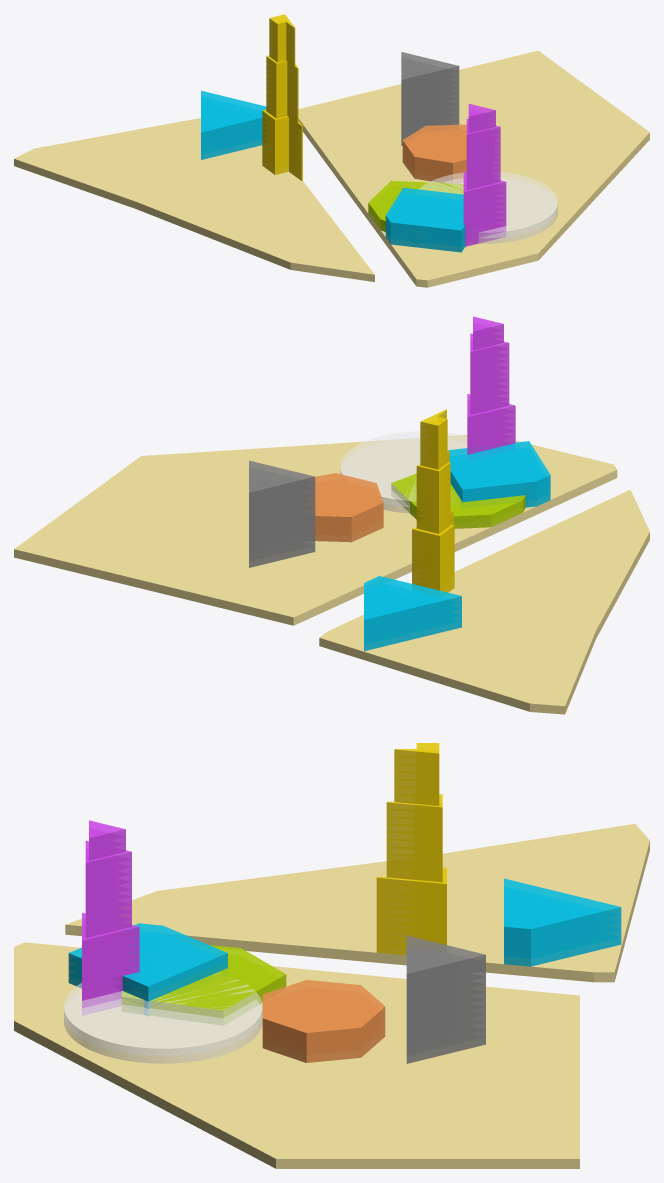
3 views of the same model, one above another, from view 1: azimuth 30°, elevation 25°; view 2: azimuth 150°, elevation 25°; view 3: azimuth 270°, elevation 25° (orthographic). The views are drawn at different scales.
Parts seen in each view (by area): view 1: Mesh (×14); view 2: Mesh (×15); view 3: Mesh (×33).
Part boxes in pixels (x1,y1,x2,y2): Mesh (×14): (14, 50, 649, 287); Mesh (×15): (14, 431, 649, 714); Mesh (×33): (14, 743, 649, 1168).
Bounding box in the file's own units: 1437 × 425 × 1153.
